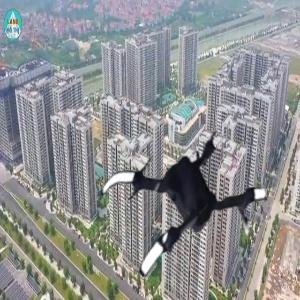drone: (99, 108, 284, 293)
